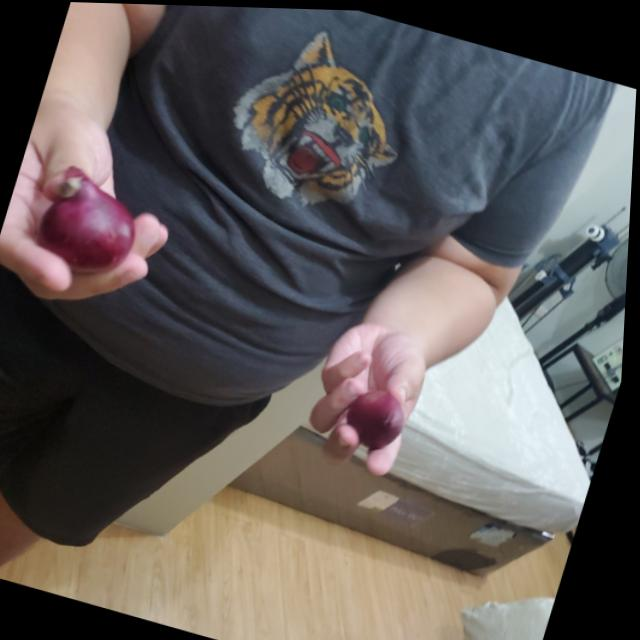onion: (33, 163, 151, 278), (345, 377, 414, 449)
